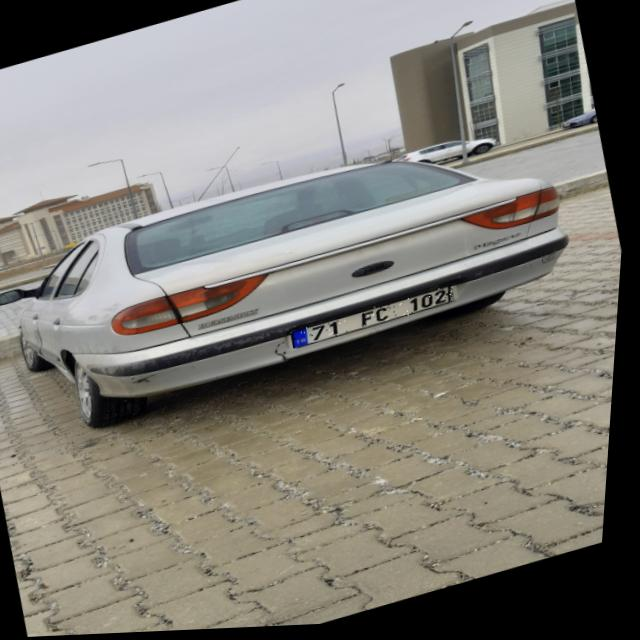license_plate: (295, 288, 463, 352)
